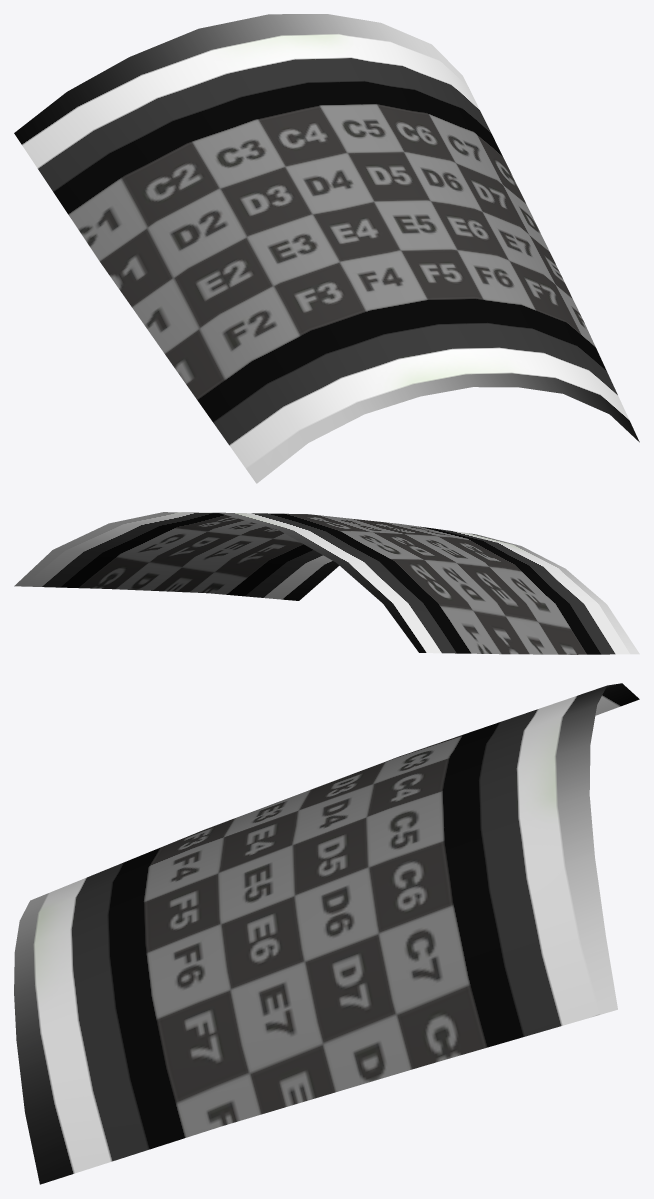
The model's file is status_right.obj.
3 renders of one model, top to bottom at view 1: azimuth 30°, elevation 25°; view 2: azimuth 150°, elevation 25°; view 3: azimuth 270°, elevation 25°, orthographic. The views are drawn at different scales.
Parts seen in each view (by area): view 1: r_status; view 2: r_status; view 3: r_status.
Part boxes in pixels (x1,y1,x2,y2): r_status: (14, 14, 639, 483); r_status: (14, 512, 639, 654); r_status: (14, 683, 639, 1184).
Size of the model in its own units: 0.0235 by 0.0151 by 0.024.
1 material, 1 textured.
